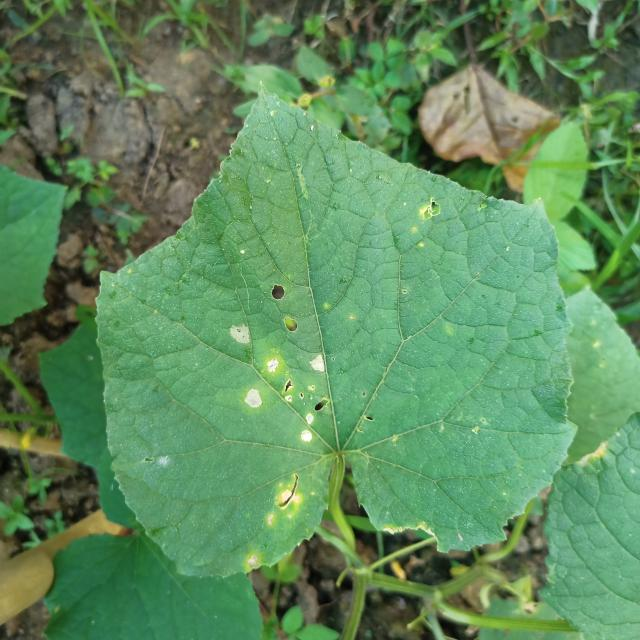disease_cucumber: (216, 307, 351, 463)
